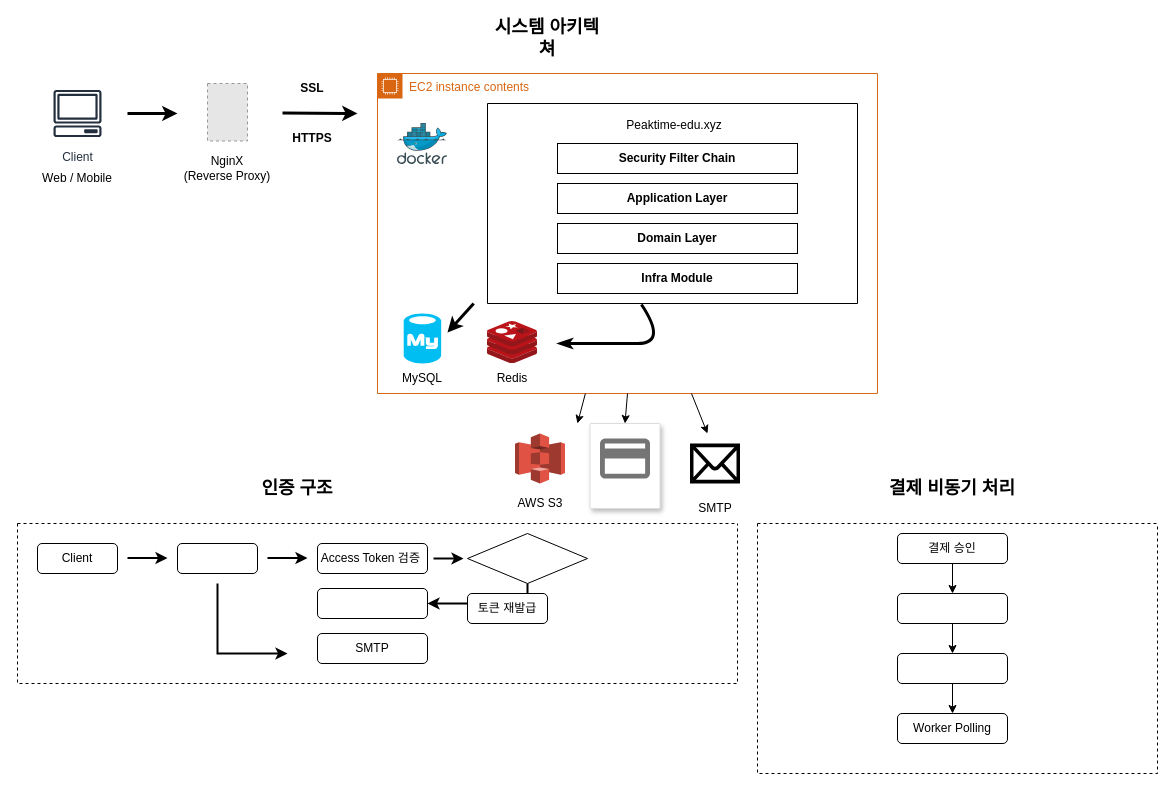
Image size: 1175x791. Some labels were removed from this diagram. Grey dashed boxes stand in for pictures. The centre of each missing label's shape, as x and y in pixels:
"DB 프로세싱" belongs at point 952,608.
"JWT Filter" belongs at point 217,558.
"Outbox 저장" belongs at point 952,668.
"Payment" belongs at point 625,467.
"Refresh Token 확인" belongs at point 372,603.
"만료 여부" belongs at point 527,558.
